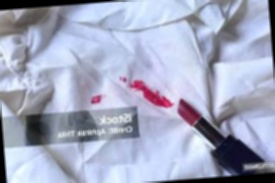lipstick: (139, 80, 176, 106), (118, 77, 151, 96), (87, 91, 109, 109), (120, 73, 128, 82)
